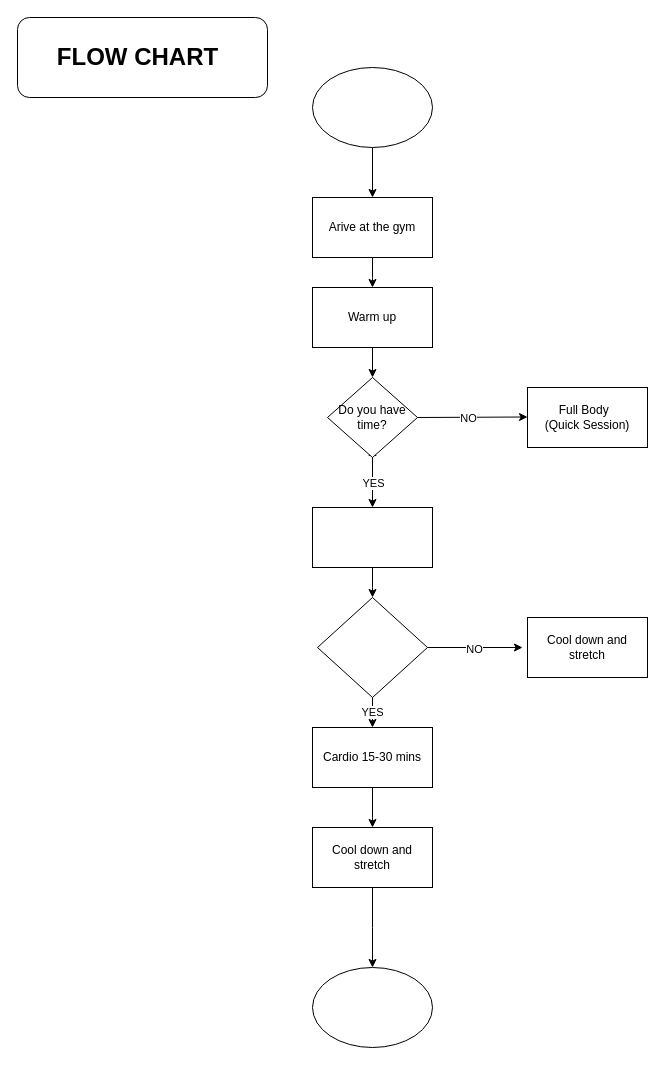
The diagram is 665 pixels wide and 1065 high, and some of its shapes have lost their labels. The shapes that lost their labels are listed below. From the top down, each one's centre as x and y in pixels, then its label:
the point at 372,107: START
the point at 372,537: Strength training (Upper/lower body session)
the point at 372,647: Do you still have energy?
the point at 372,1007: END
